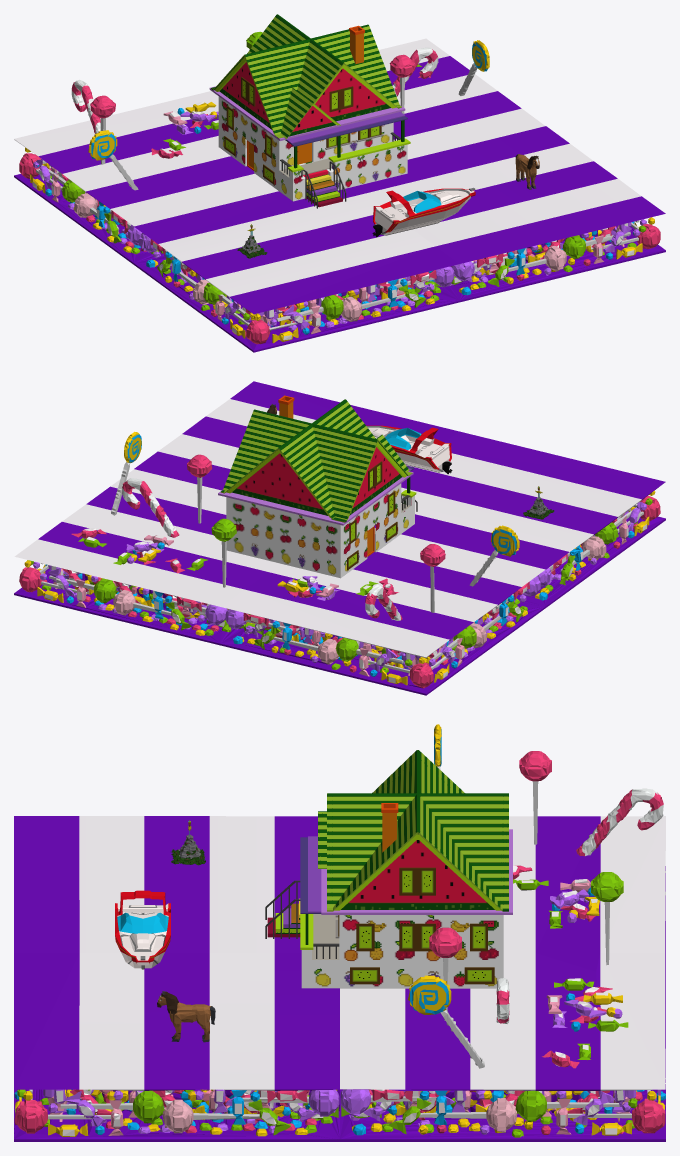
The picture shows the model from 3 angles, top to bottom: view 1: azimuth 30°, elevation 25°; view 2: azimuth 150°, elevation 25°; view 3: azimuth 270°, elevation 25°; orthographic projection. The views are drawn at different scales.
Visible parts, largest first — view 1: TERRAIN_CANDY, Cube.1063, VEHICLES_BOAT, ANIMAL_CABALLO; view 2: TERRAIN_CANDY, Cube.1063, VEHICLES_BOAT; view 3: TERRAIN_CANDY, Cube.1063, VEHICLES_BOAT, ANIMAL_CABALLO, OBJRANDOM_SWORD_IN_THE_STONE.
Part boxes in pixels (<box>): TERRAIN_CANDY: <box>14,31,665,352</box>; Cube.1063: <box>209,14,410,208</box>; VEHICLES_BOAT: <box>372,187,475,237</box>; ANIMAL_CABALLO: <box>515,154,539,189</box>; TERRAIN_CANDY: <box>14,381,665,695</box>; Cube.1063: <box>218,395,417,578</box>; VEHICLES_BOAT: <box>366,425,452,474</box>; TERRAIN_CANDY: <box>14,724,665,1141</box>; Cube.1063: <box>265,750,512,988</box>; VEHICLES_BOAT: <box>115,890,170,969</box>; ANIMAL_CABALLO: <box>157,991,215,1042</box>; OBJRANDOM_SWORD_IN_THE_STONE: <box>171,820,205,865</box>.
Size of the model in its own units: 4059 by 1534 by 4000.
Materials: 30 (5 with a texture image).
